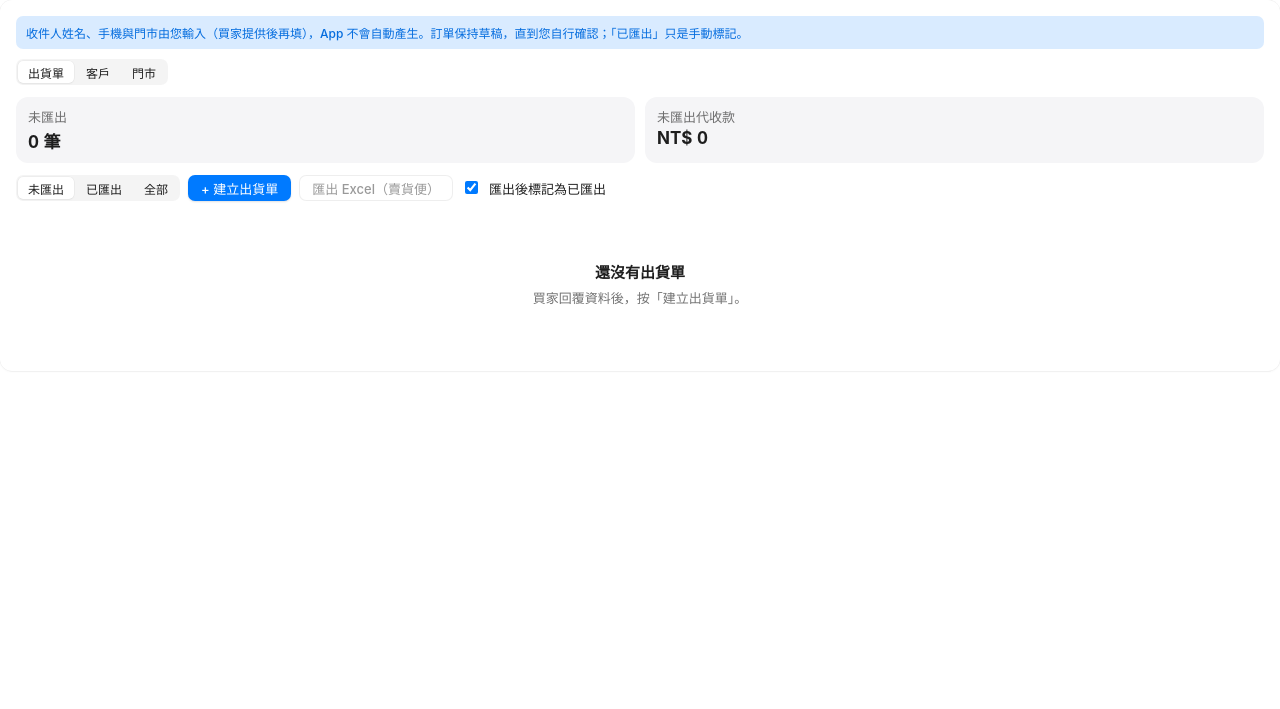
Test: ShipPage › looks the store number up online when it is not in the local list
The image size is (1280, 709).
Click the button "+ 建立出貨單" at (240, 188), box [188, 175, 291, 201]
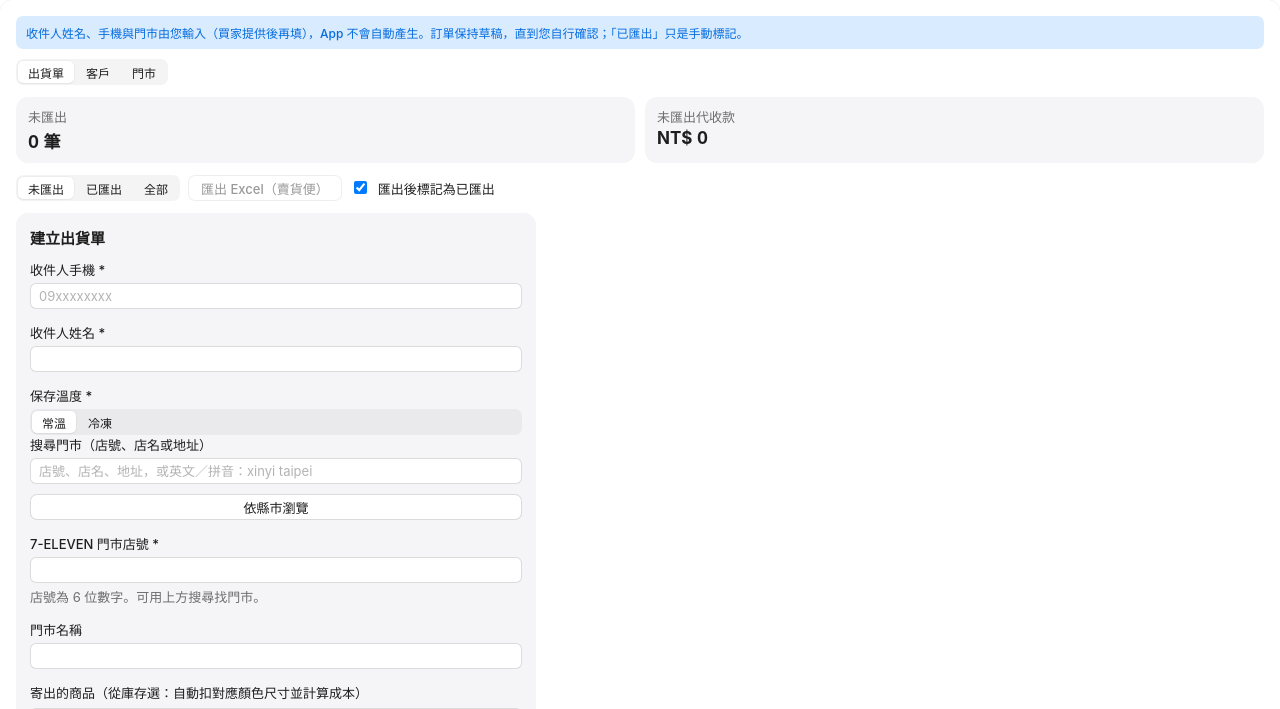
Type "131386" into the field labelled "7-ELEVEN 門市店號 *" at (276, 570), box [30, 557, 522, 583]
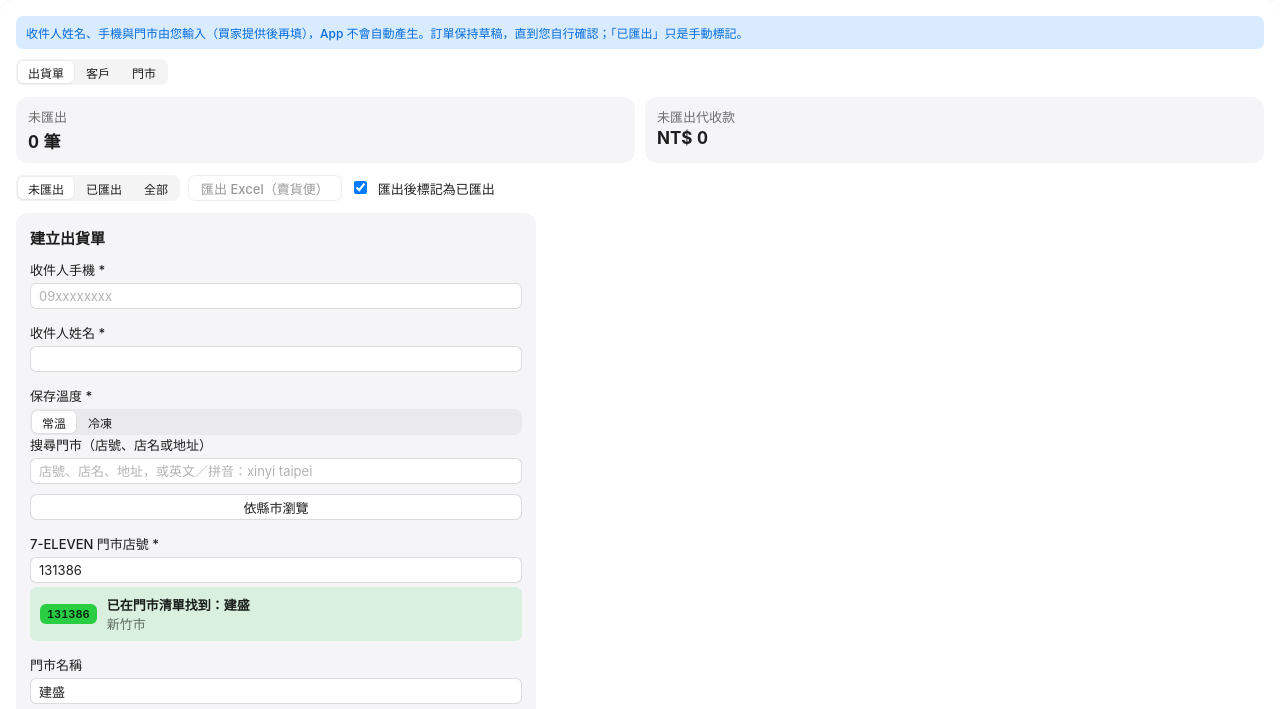
Expected: the field labelled "門市名稱" holds "建盛", [30, 678, 522, 704]
